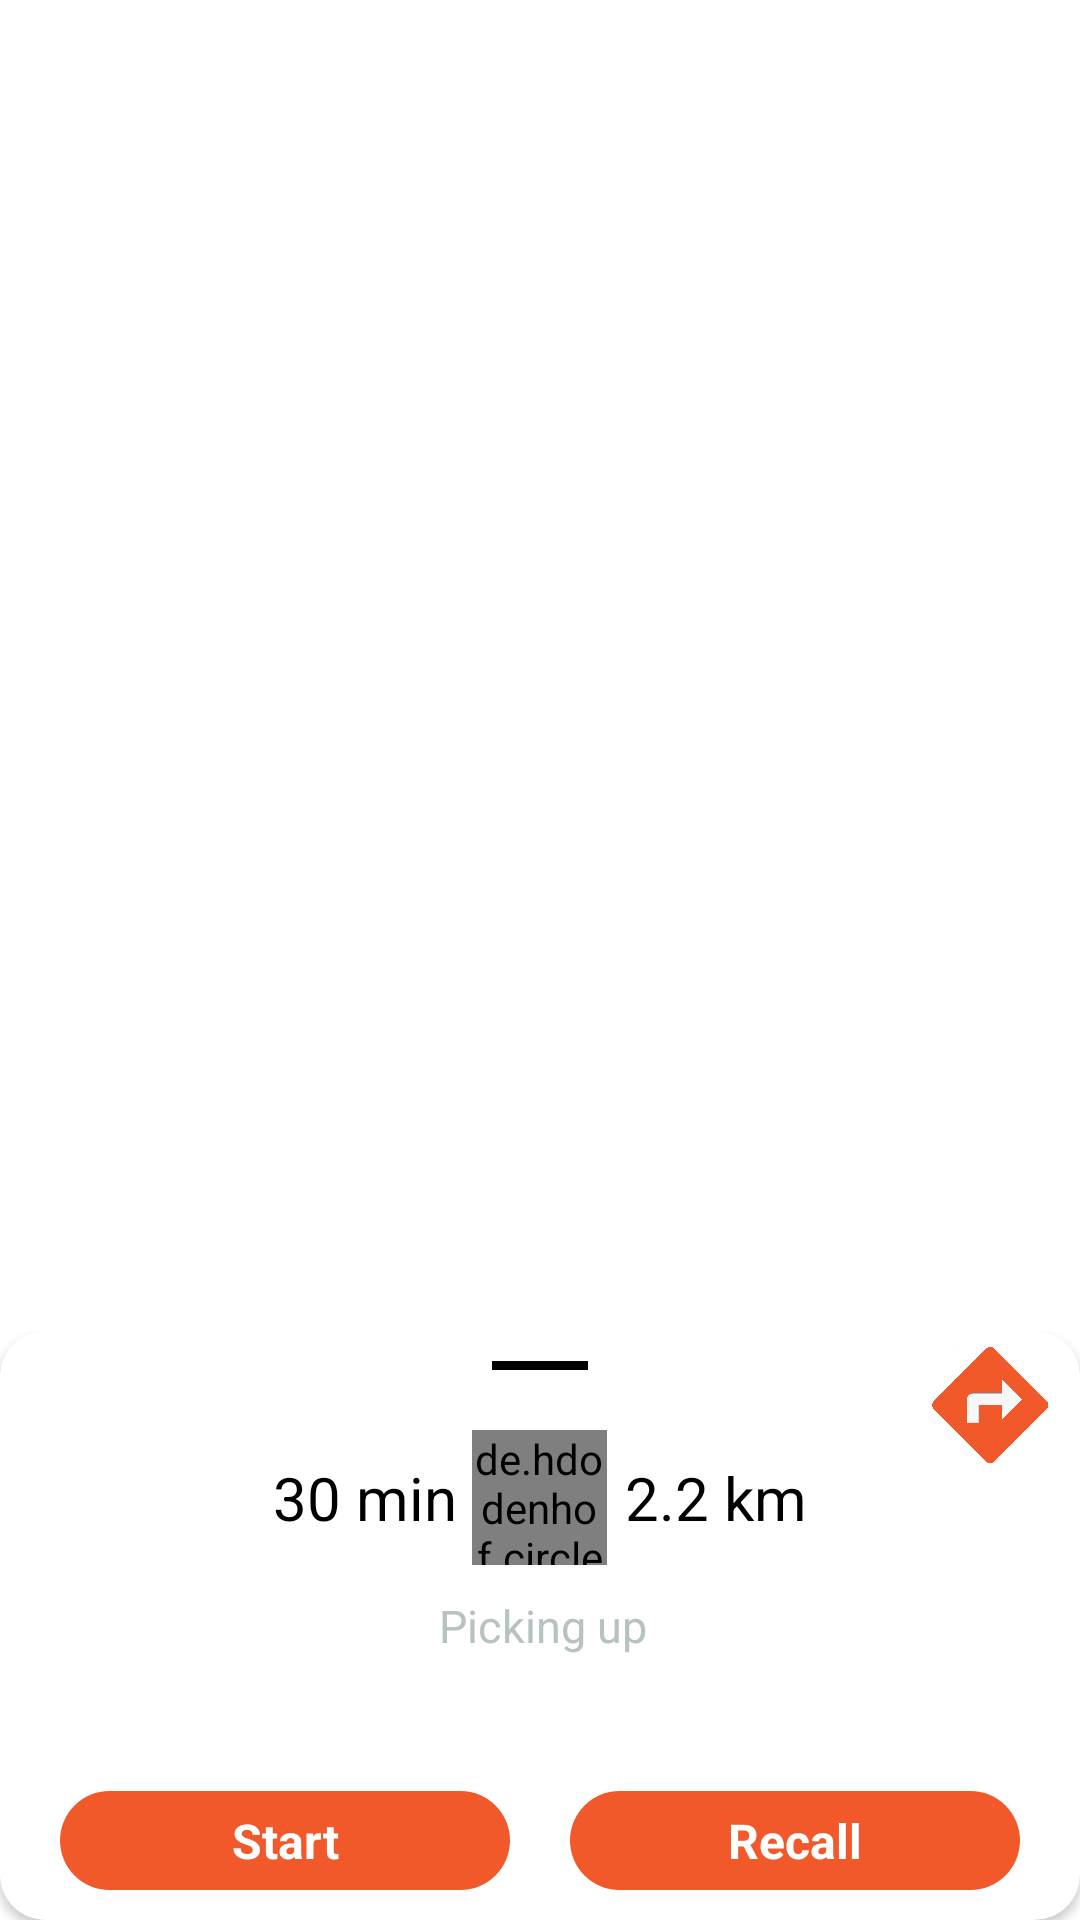

Icon click points for this 1080px x 1920px phone screenshot, format point (x, y):
direction: point (990, 1405)
